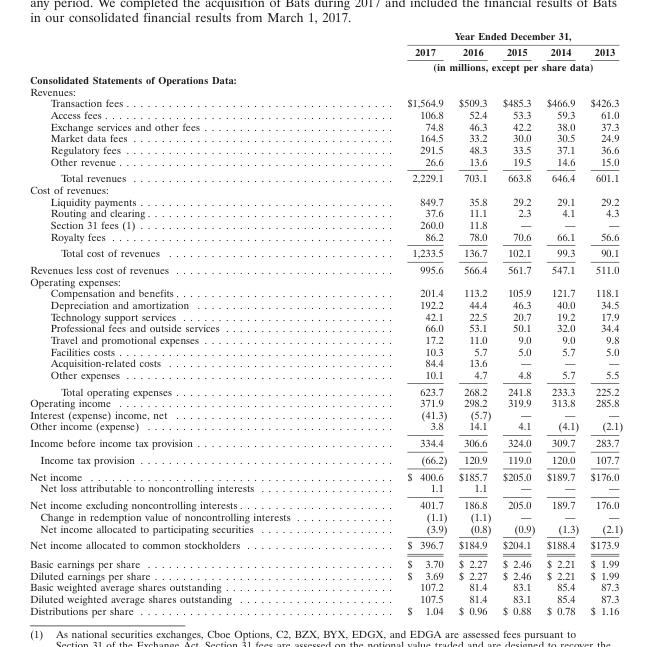table: (29, 29, 622, 616)
table column: (29, 29, 348, 616), (348, 29, 452, 616), (452, 29, 496, 616), (496, 29, 540, 616), (540, 29, 584, 616), (584, 29, 622, 616)
table column header: (29, 29, 622, 73)
table projected row header: (29, 73, 622, 85), (29, 183, 622, 195), (29, 85, 622, 96), (29, 275, 622, 286)
table row: (29, 536, 622, 554), (29, 244, 622, 261), (29, 434, 622, 451), (29, 451, 622, 467), (29, 43, 622, 58), (29, 58, 622, 73), (29, 419, 622, 434), (29, 467, 622, 482), (29, 554, 622, 569), (29, 29, 622, 43), (29, 155, 622, 169), (29, 169, 622, 183), (29, 230, 622, 244), (29, 261, 622, 275), (29, 368, 622, 382), (29, 382, 622, 396), (29, 482, 622, 496), (29, 496, 622, 510), (29, 522, 622, 536), (29, 73, 622, 85), (29, 96, 622, 108), (29, 108, 622, 120), (29, 131, 622, 143), (29, 143, 622, 155), (29, 183, 622, 195), (29, 206, 622, 218), (29, 218, 622, 230), (29, 286, 622, 298), (29, 298, 622, 310), (29, 321, 622, 333), (29, 333, 622, 345), (29, 356, 622, 368), (29, 396, 622, 408), (29, 510, 622, 522), (29, 580, 622, 592), (29, 592, 622, 604), (29, 604, 622, 616), (29, 85, 622, 96), (29, 120, 622, 131), (29, 195, 622, 206), (29, 275, 622, 286), (29, 310, 622, 321), (29, 345, 622, 356), (29, 408, 622, 419), (29, 569, 622, 580)
table spanning cell: (348, 58, 622, 73), (348, 29, 622, 43)
